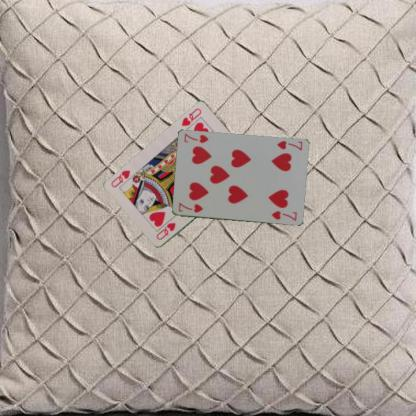7h: (176, 200, 204, 214), (274, 138, 304, 151)
Qh: (179, 106, 203, 128), (154, 220, 176, 242)
